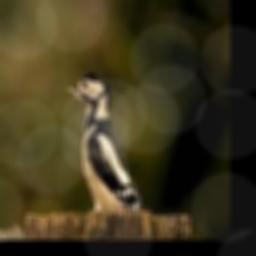Woodpecker: (64, 74, 143, 212)
